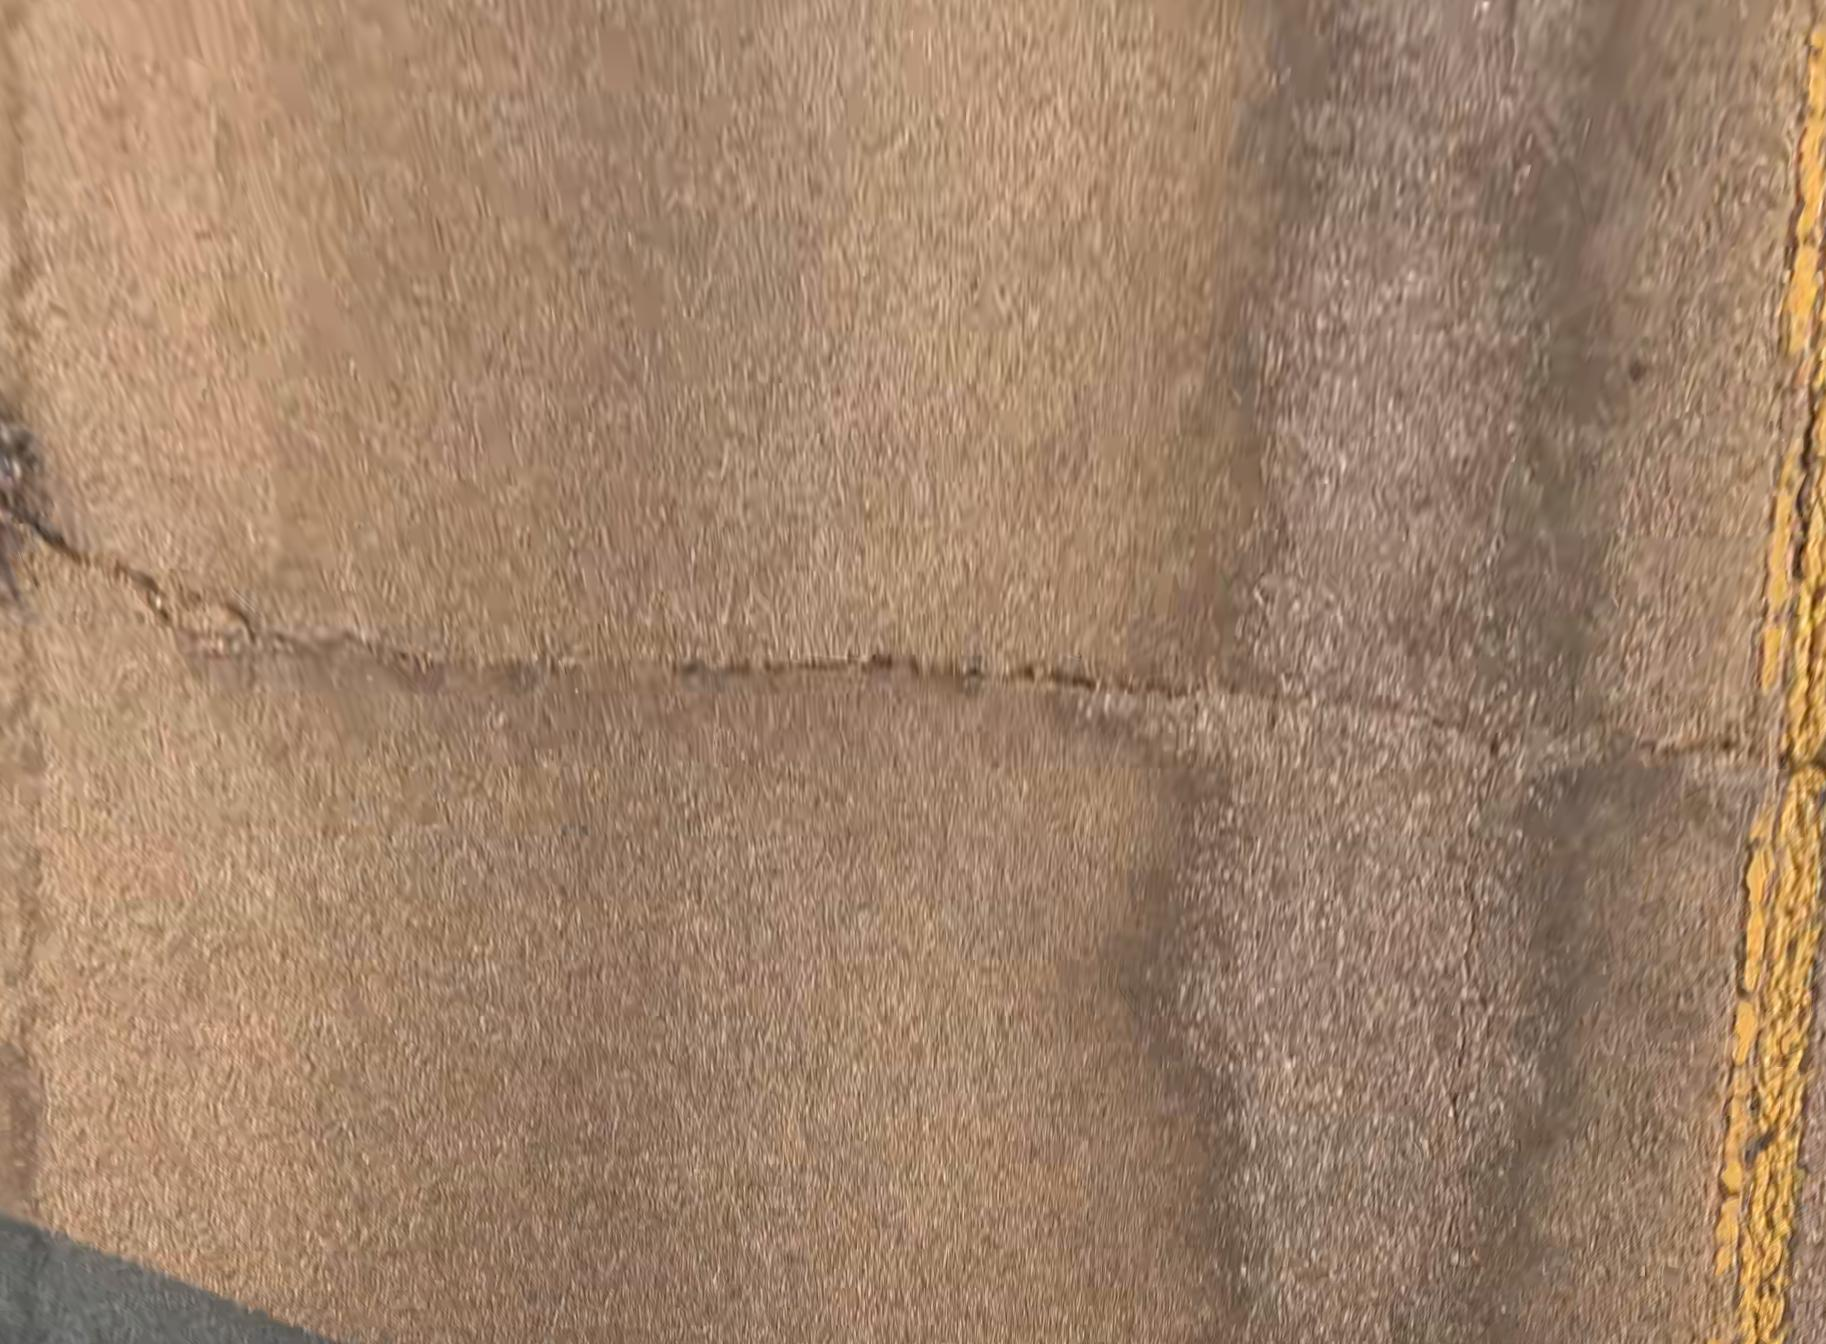pothole: (0, 415, 65, 604)
